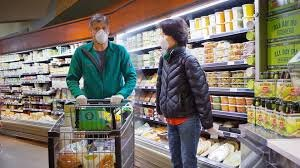with_basket: (47, 94, 136, 167)
with_mask: (89, 14, 111, 44)
